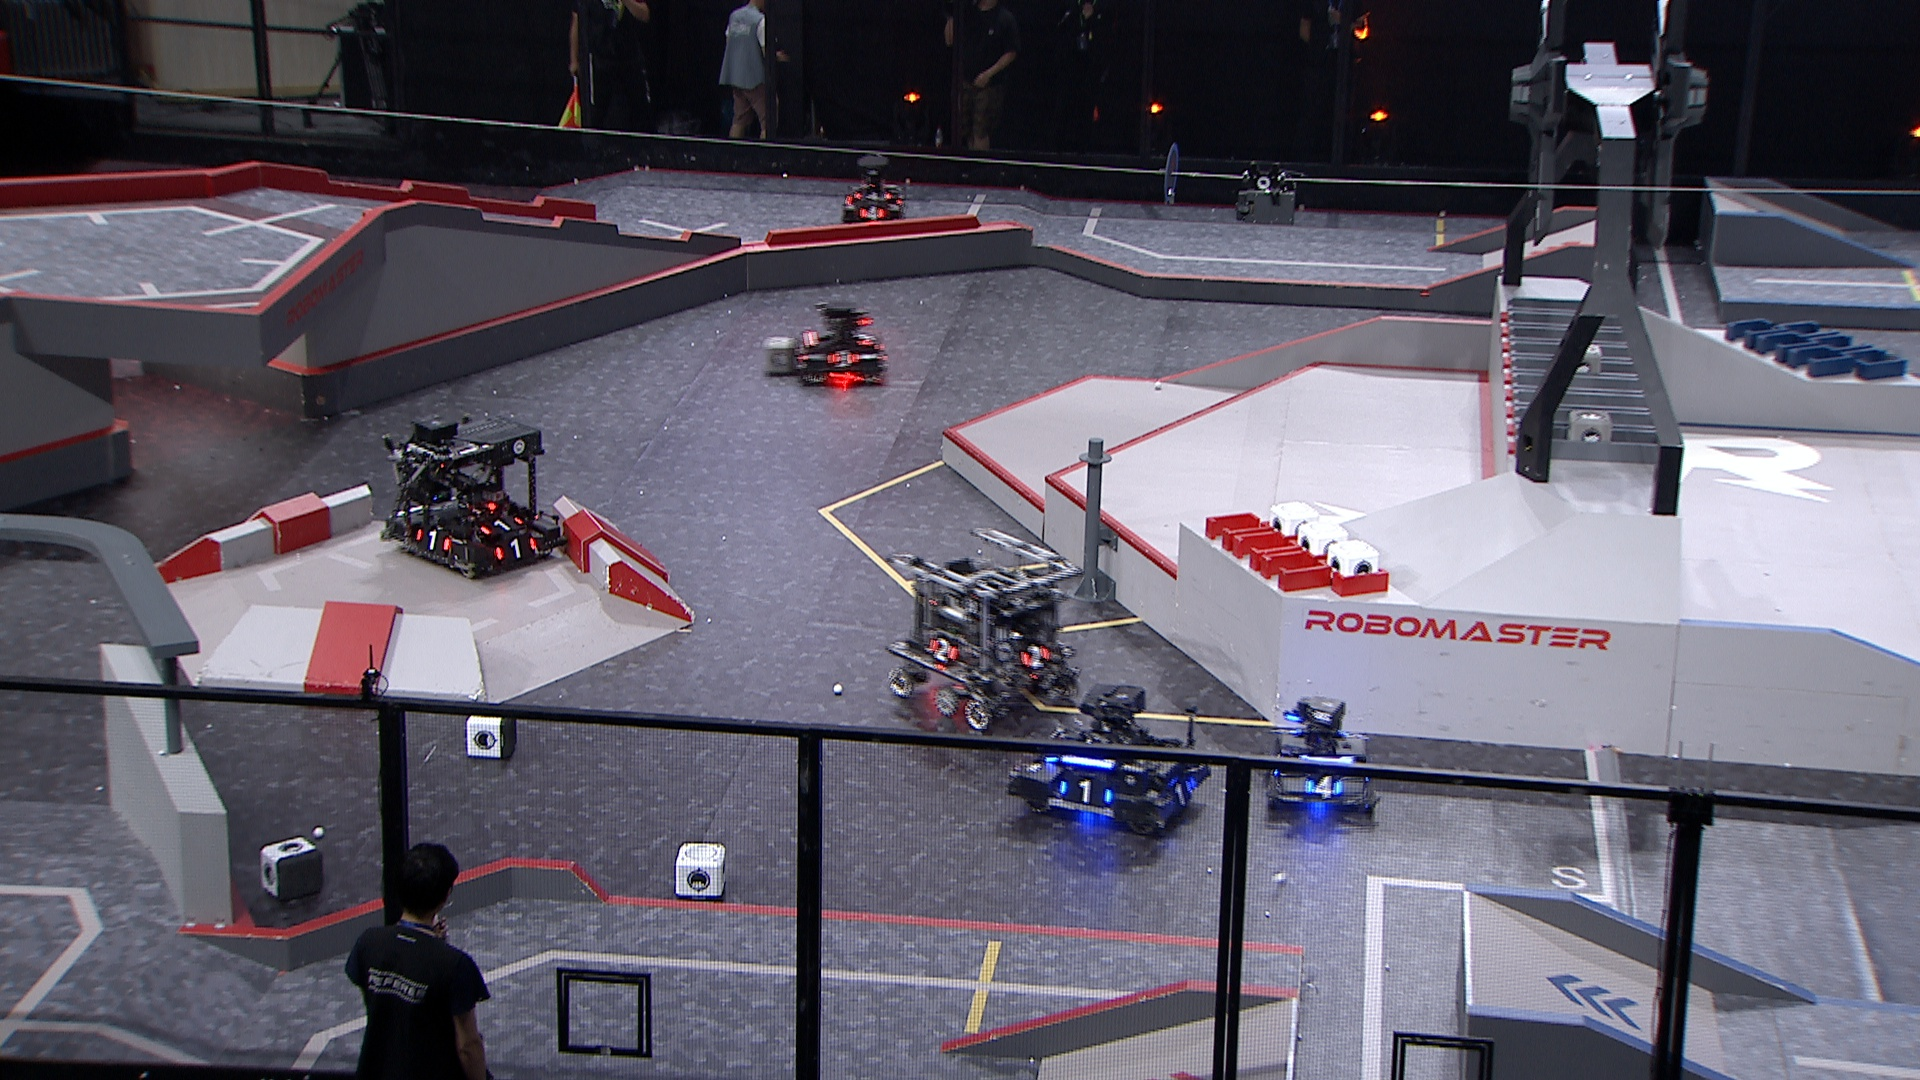armor: (1059, 778, 1112, 806), (414, 527, 451, 556), (496, 537, 537, 562), (484, 512, 520, 533), (928, 638, 959, 662), (1168, 777, 1195, 803), (1309, 775, 1338, 798), (1021, 645, 1048, 666), (828, 349, 855, 368), (860, 204, 887, 220), (856, 189, 887, 200), (852, 332, 876, 347)
car: (884, 524, 1079, 721), (380, 405, 566, 580), (1005, 684, 1207, 837), (1259, 694, 1379, 818), (795, 295, 889, 392), (836, 152, 910, 228)
